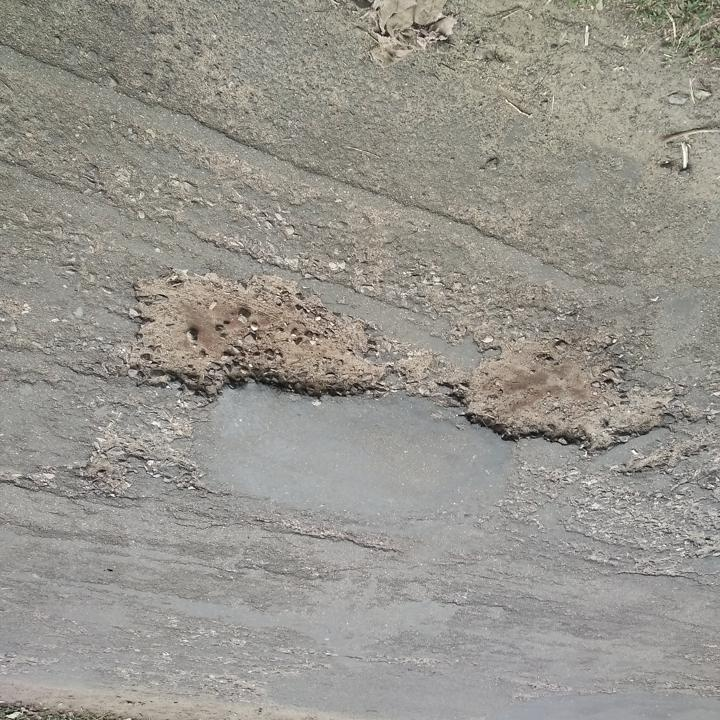pothole: (120, 267, 411, 405), (440, 334, 684, 457)
